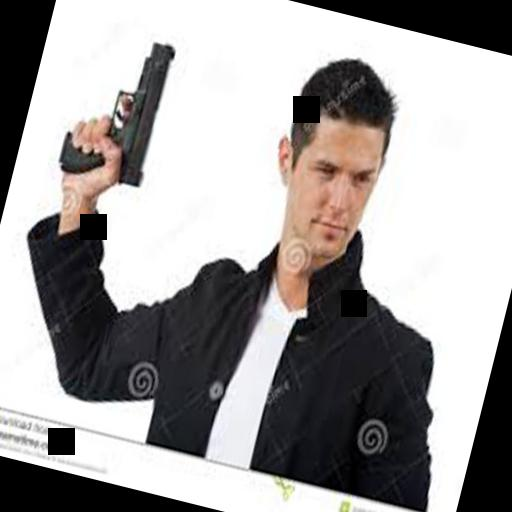Handgun: (46, 8, 183, 194)
